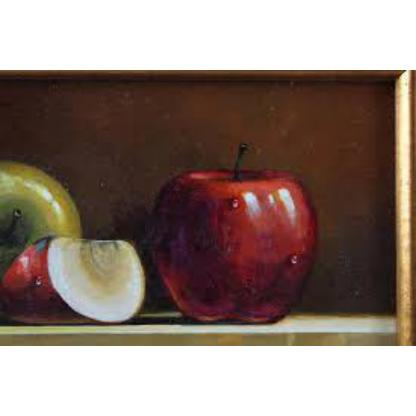apple: (153, 172, 317, 328), (10, 234, 148, 330)
